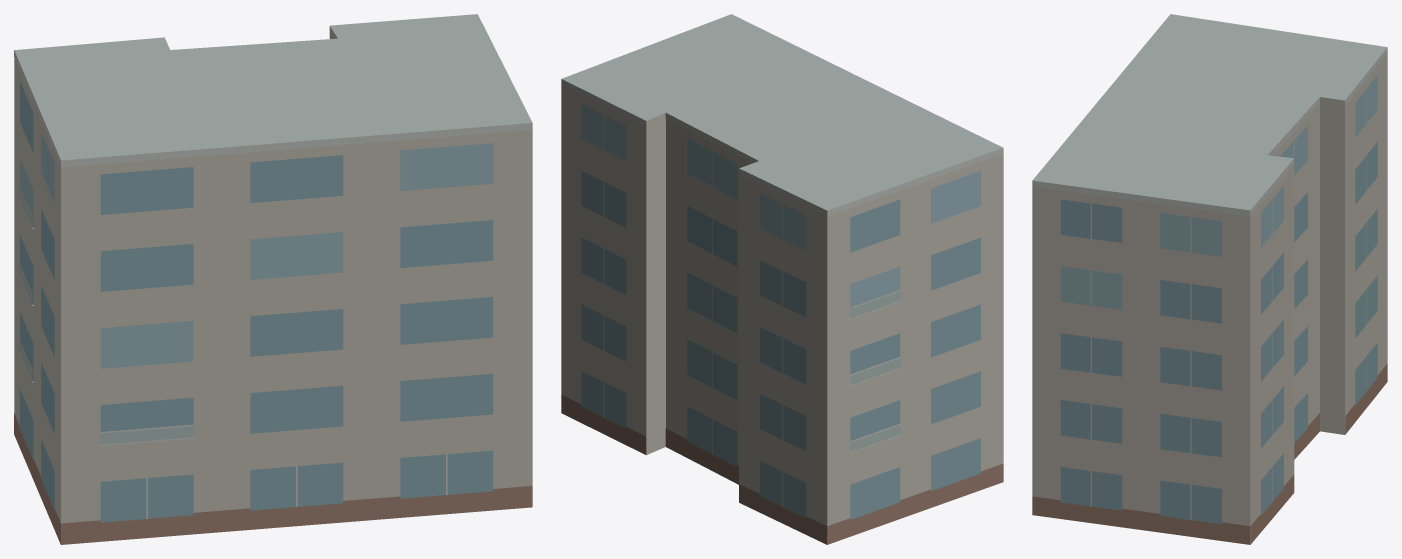
The model's file is survey-upis-32954260.glb.
3 views of the same model, side by side, from view 1: azimuth 30°, elevation 25°; view 2: azimuth 150°, elevation 25°; view 3: azimuth 270°, elevation 25° (orthographic). The views are drawn at different scales.
Visible parts, largest first — view 1: survey-upis-32954260.tmp; view 2: survey-upis-32954260.tmp; view 3: survey-upis-32954260.tmp.
Boxes of the visible parts, x1,y1,x2,y2 form: survey-upis-32954260.tmp: (14, 14, 532, 544); survey-upis-32954260.tmp: (561, 14, 1003, 544); survey-upis-32954260.tmp: (1032, 14, 1387, 544).
Size of the model in its own units: 16.64 by 13.2 by 12.72.
